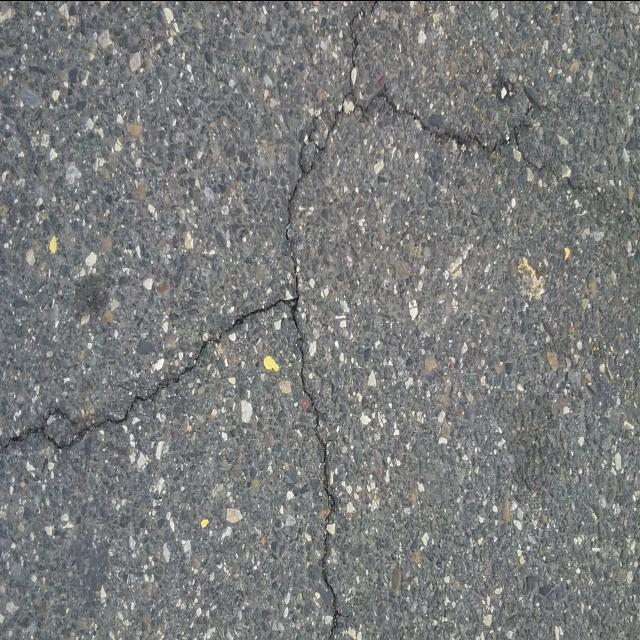Crack: (0, 0, 600, 640)
